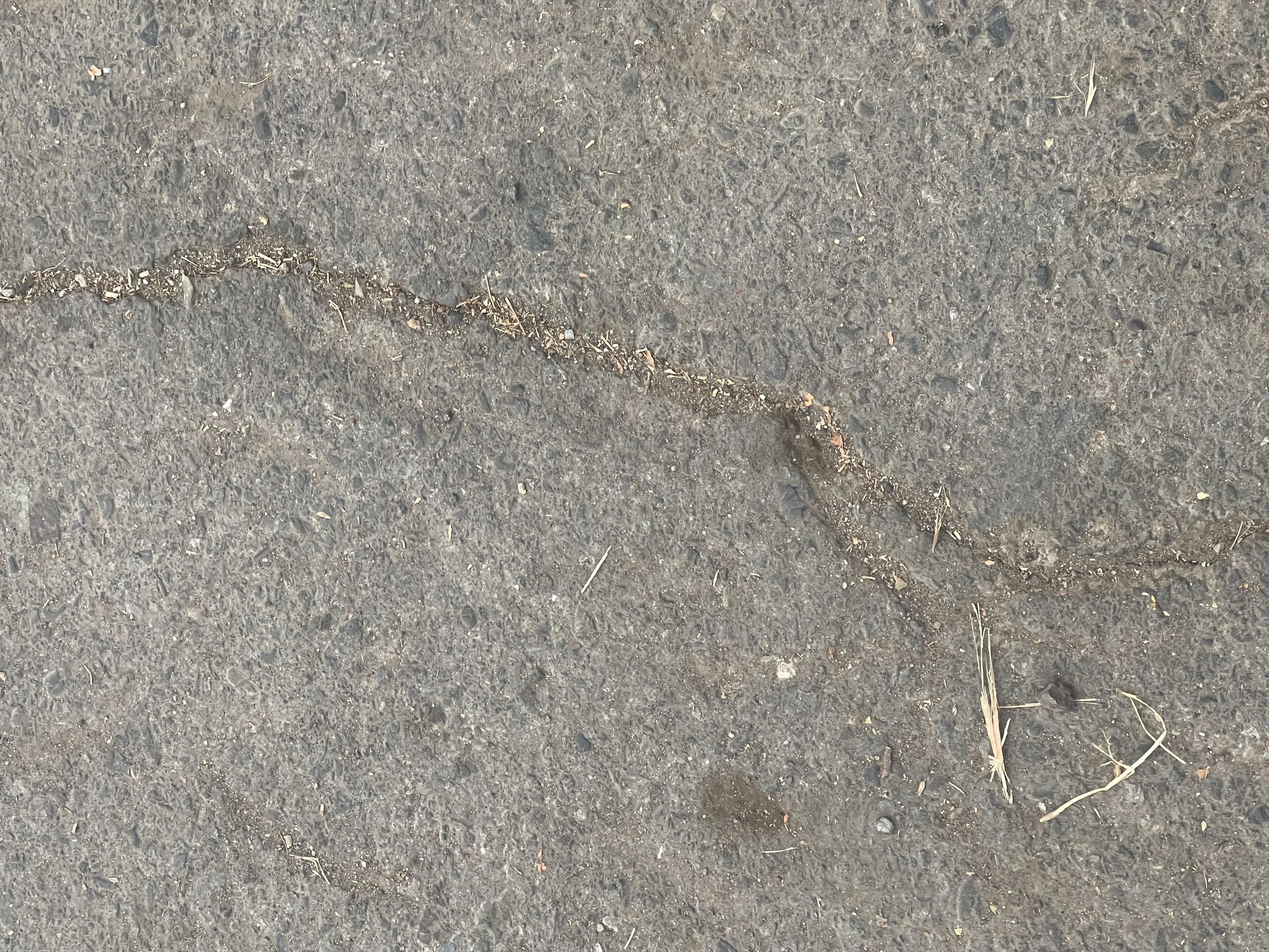GRIETA: (0, 228, 1269, 595), (790, 433, 1269, 660)
PIEL DE COCODRILO: (0, 398, 1090, 952)
